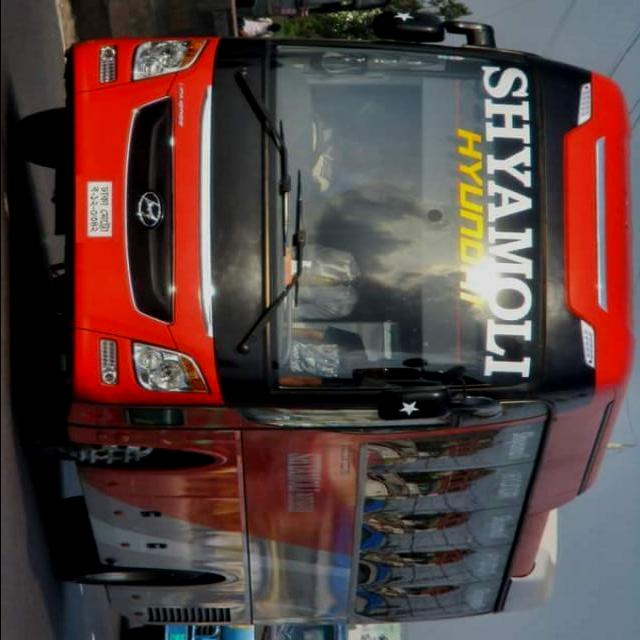bus: (19, 12, 634, 630)
